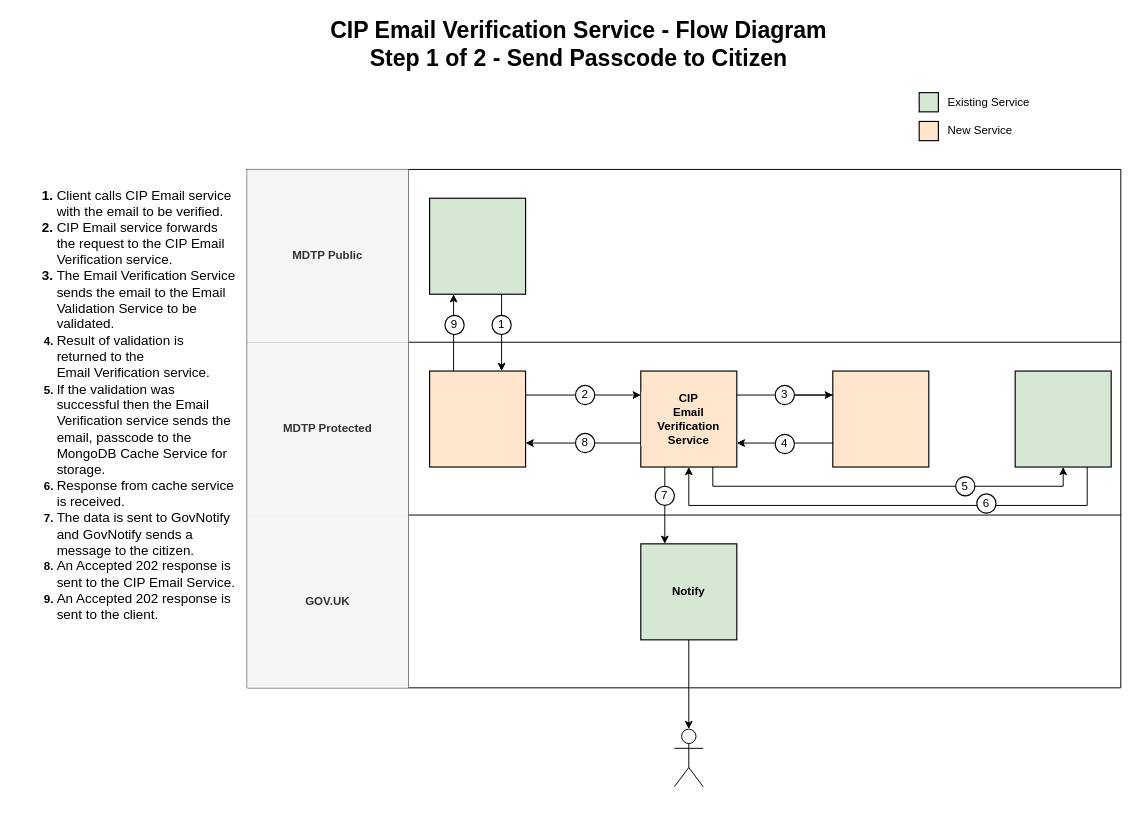
This 1138x823 diagram has some shape labels left out. Here are the shapes that lost their labels. From the top down, the centre of each, then its label:
pixel 477 245: Client
pixel 477 418: CIP Email Service
pixel 880 418: CIP Email Validation Service
pixel 1062 418: HMRC MongoDB Cache Service
pixel 688 757: Citizen
